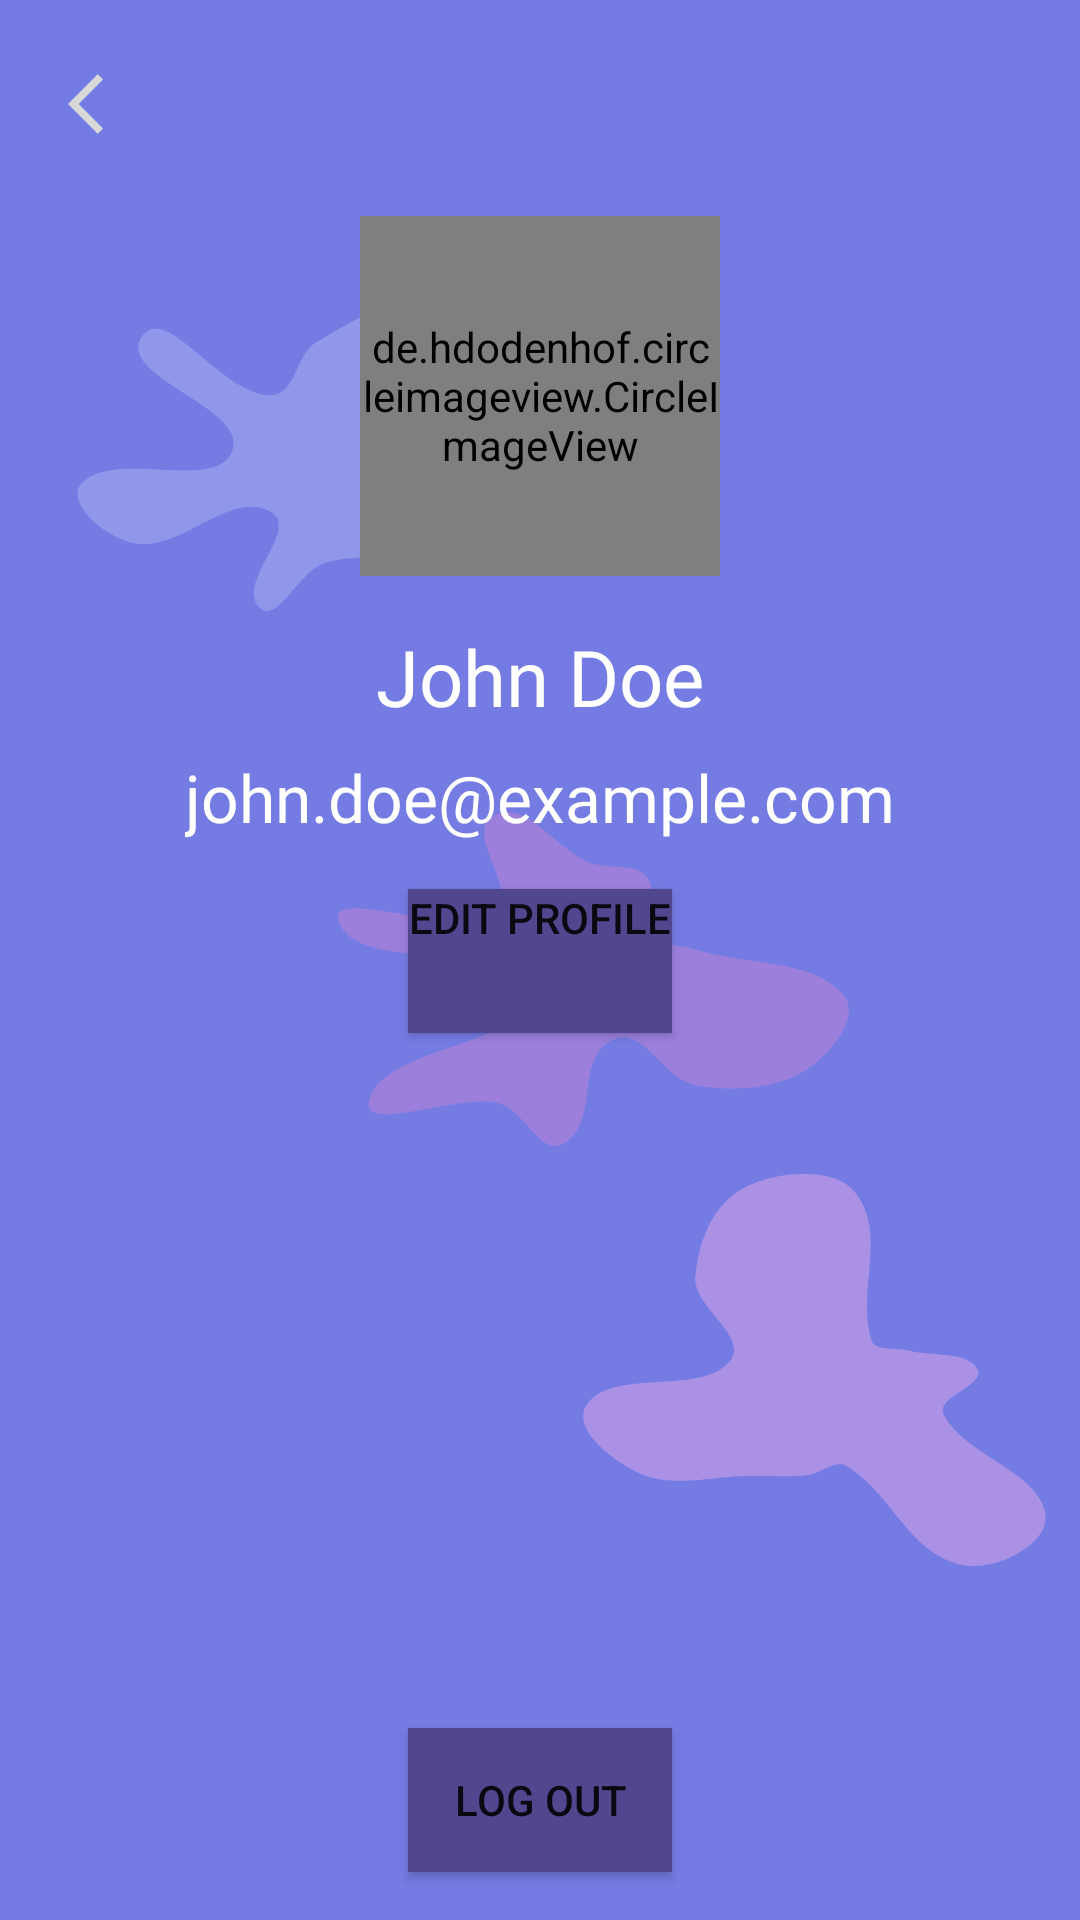

Named icons in this screenshot (1080*1920) and their bounding boxes, {"left": x1, "top": y1, "right": x2, "bottom": y2}:
Back Button: {"left": 68, "top": 74, "right": 103, "bottom": 134}
